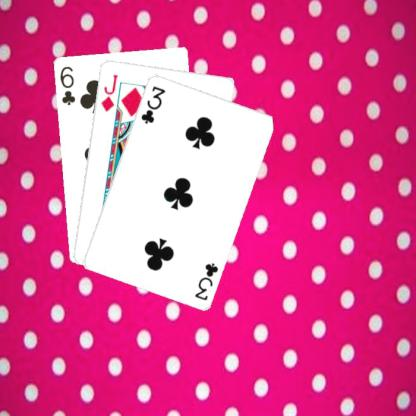3C: (138, 82, 166, 124), (192, 260, 219, 302)
6C: (56, 63, 76, 106)
JD: (98, 71, 120, 113)
